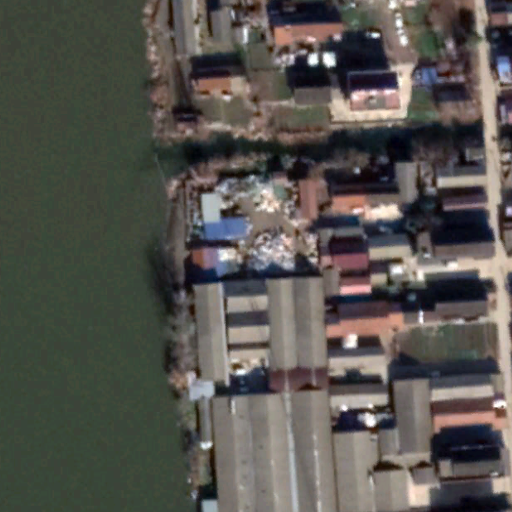msw: (234, 178, 302, 275)
